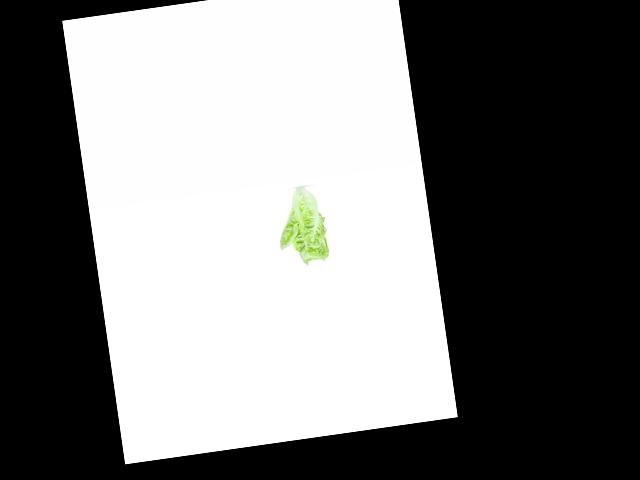lettuce: (272, 186, 334, 269)
